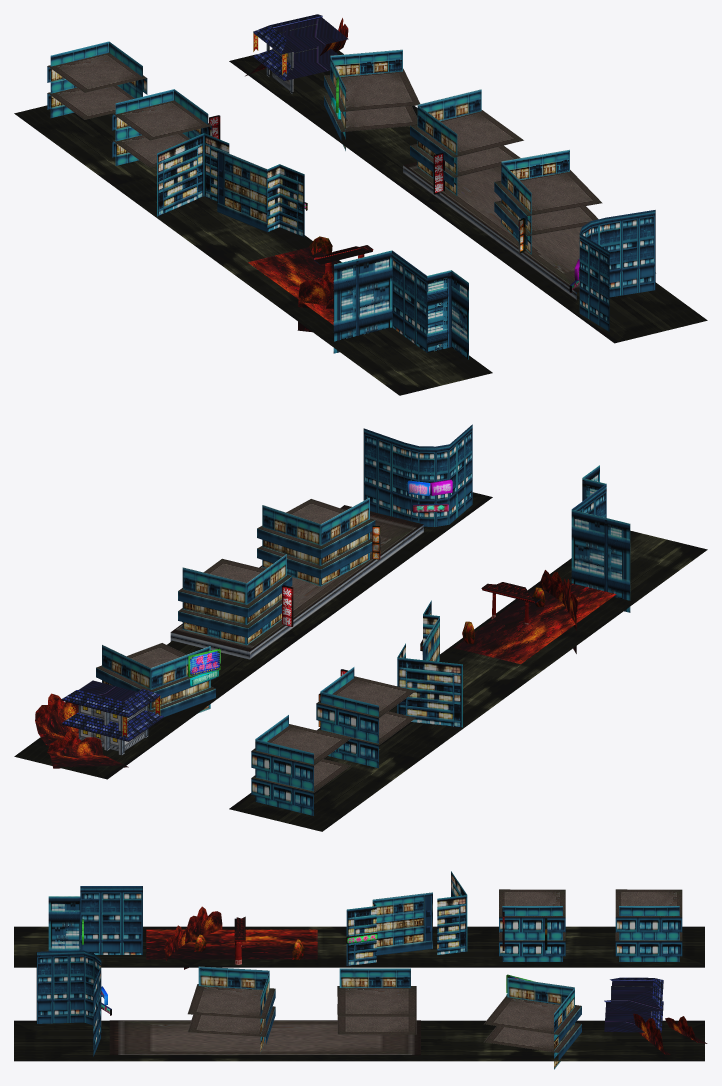
The model's file is as_downtown_mid1.fbx.
3 views of the same model, one above another, from view 1: azimuth 30°, elevation 25°; view 2: azimuth 150°, elevation 25°; view 3: azimuth 270°, elevation 25° (orthographic). The views are drawn at different scales.
Visible parts, largest first — view 1: as_downtown_mid1; view 2: as_downtown_mid1; view 3: as_downtown_mid1.
Boxes of the visible parts, x1,y1,x2,y2 form: as_downtown_mid1: (14, 14, 707, 395); as_downtown_mid1: (14, 424, 707, 831); as_downtown_mid1: (14, 871, 707, 1069).
Bounding box in the file's own units: 4649 × 1489 × 10045.
